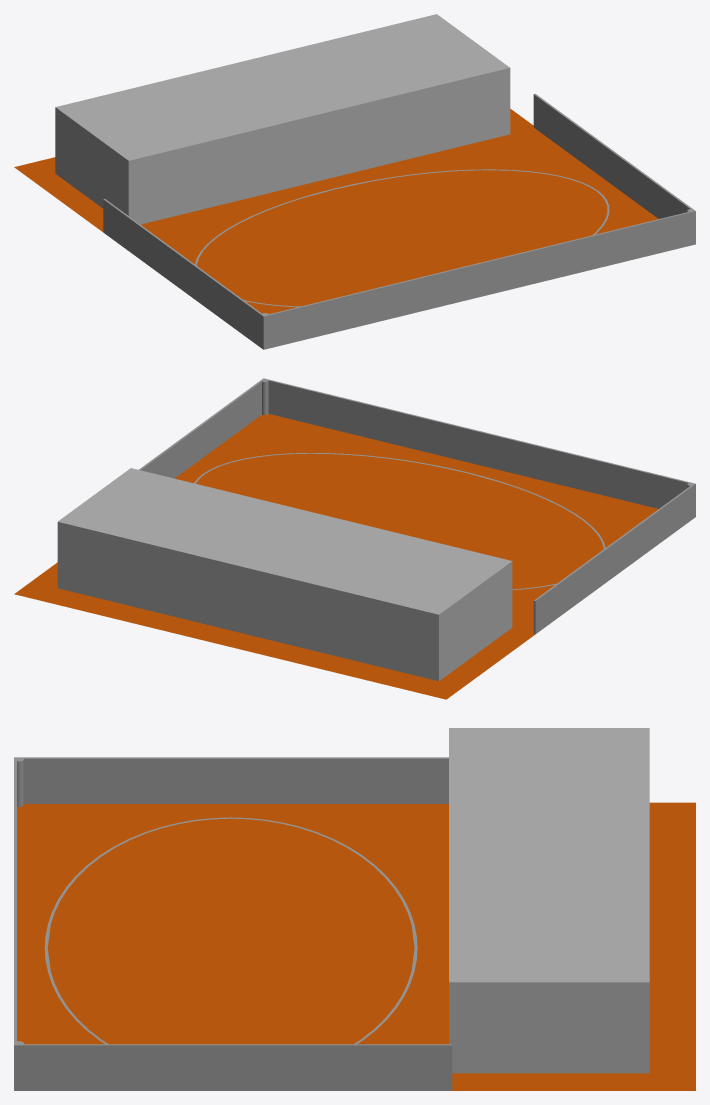
The picture shows the model from 3 angles, top to bottom: view 1: azimuth 30°, elevation 25°; view 2: azimuth 150°, elevation 25°; view 3: azimuth 270°, elevation 25°; orthographic projection. The views are drawn at different scales.
Visible parts, largest first — view 1: Body2, Body1, Body4, Body3; view 2: Body2, Body1, Body4, Body3; view 3: Body1, Body2, Body4, Body3.
Boxes of the visible parts, x1,y1,x2,y2 form: Body2: [55, 14, 510, 224]; Body1: [14, 109, 658, 313]; Body4: [103, 93, 695, 349]; Body3: [195, 169, 609, 307]; Body2: [57, 468, 512, 681]; Body1: [14, 414, 658, 699]; Body4: [139, 378, 695, 634]; Body3: [194, 453, 605, 590]; Body1: [17, 802, 695, 1090]; Body2: [449, 728, 649, 1073]; Body4: [14, 757, 452, 1090]; Body3: [44, 817, 417, 1044].
Size of the model in its own units: 68 by 10 by 68.
